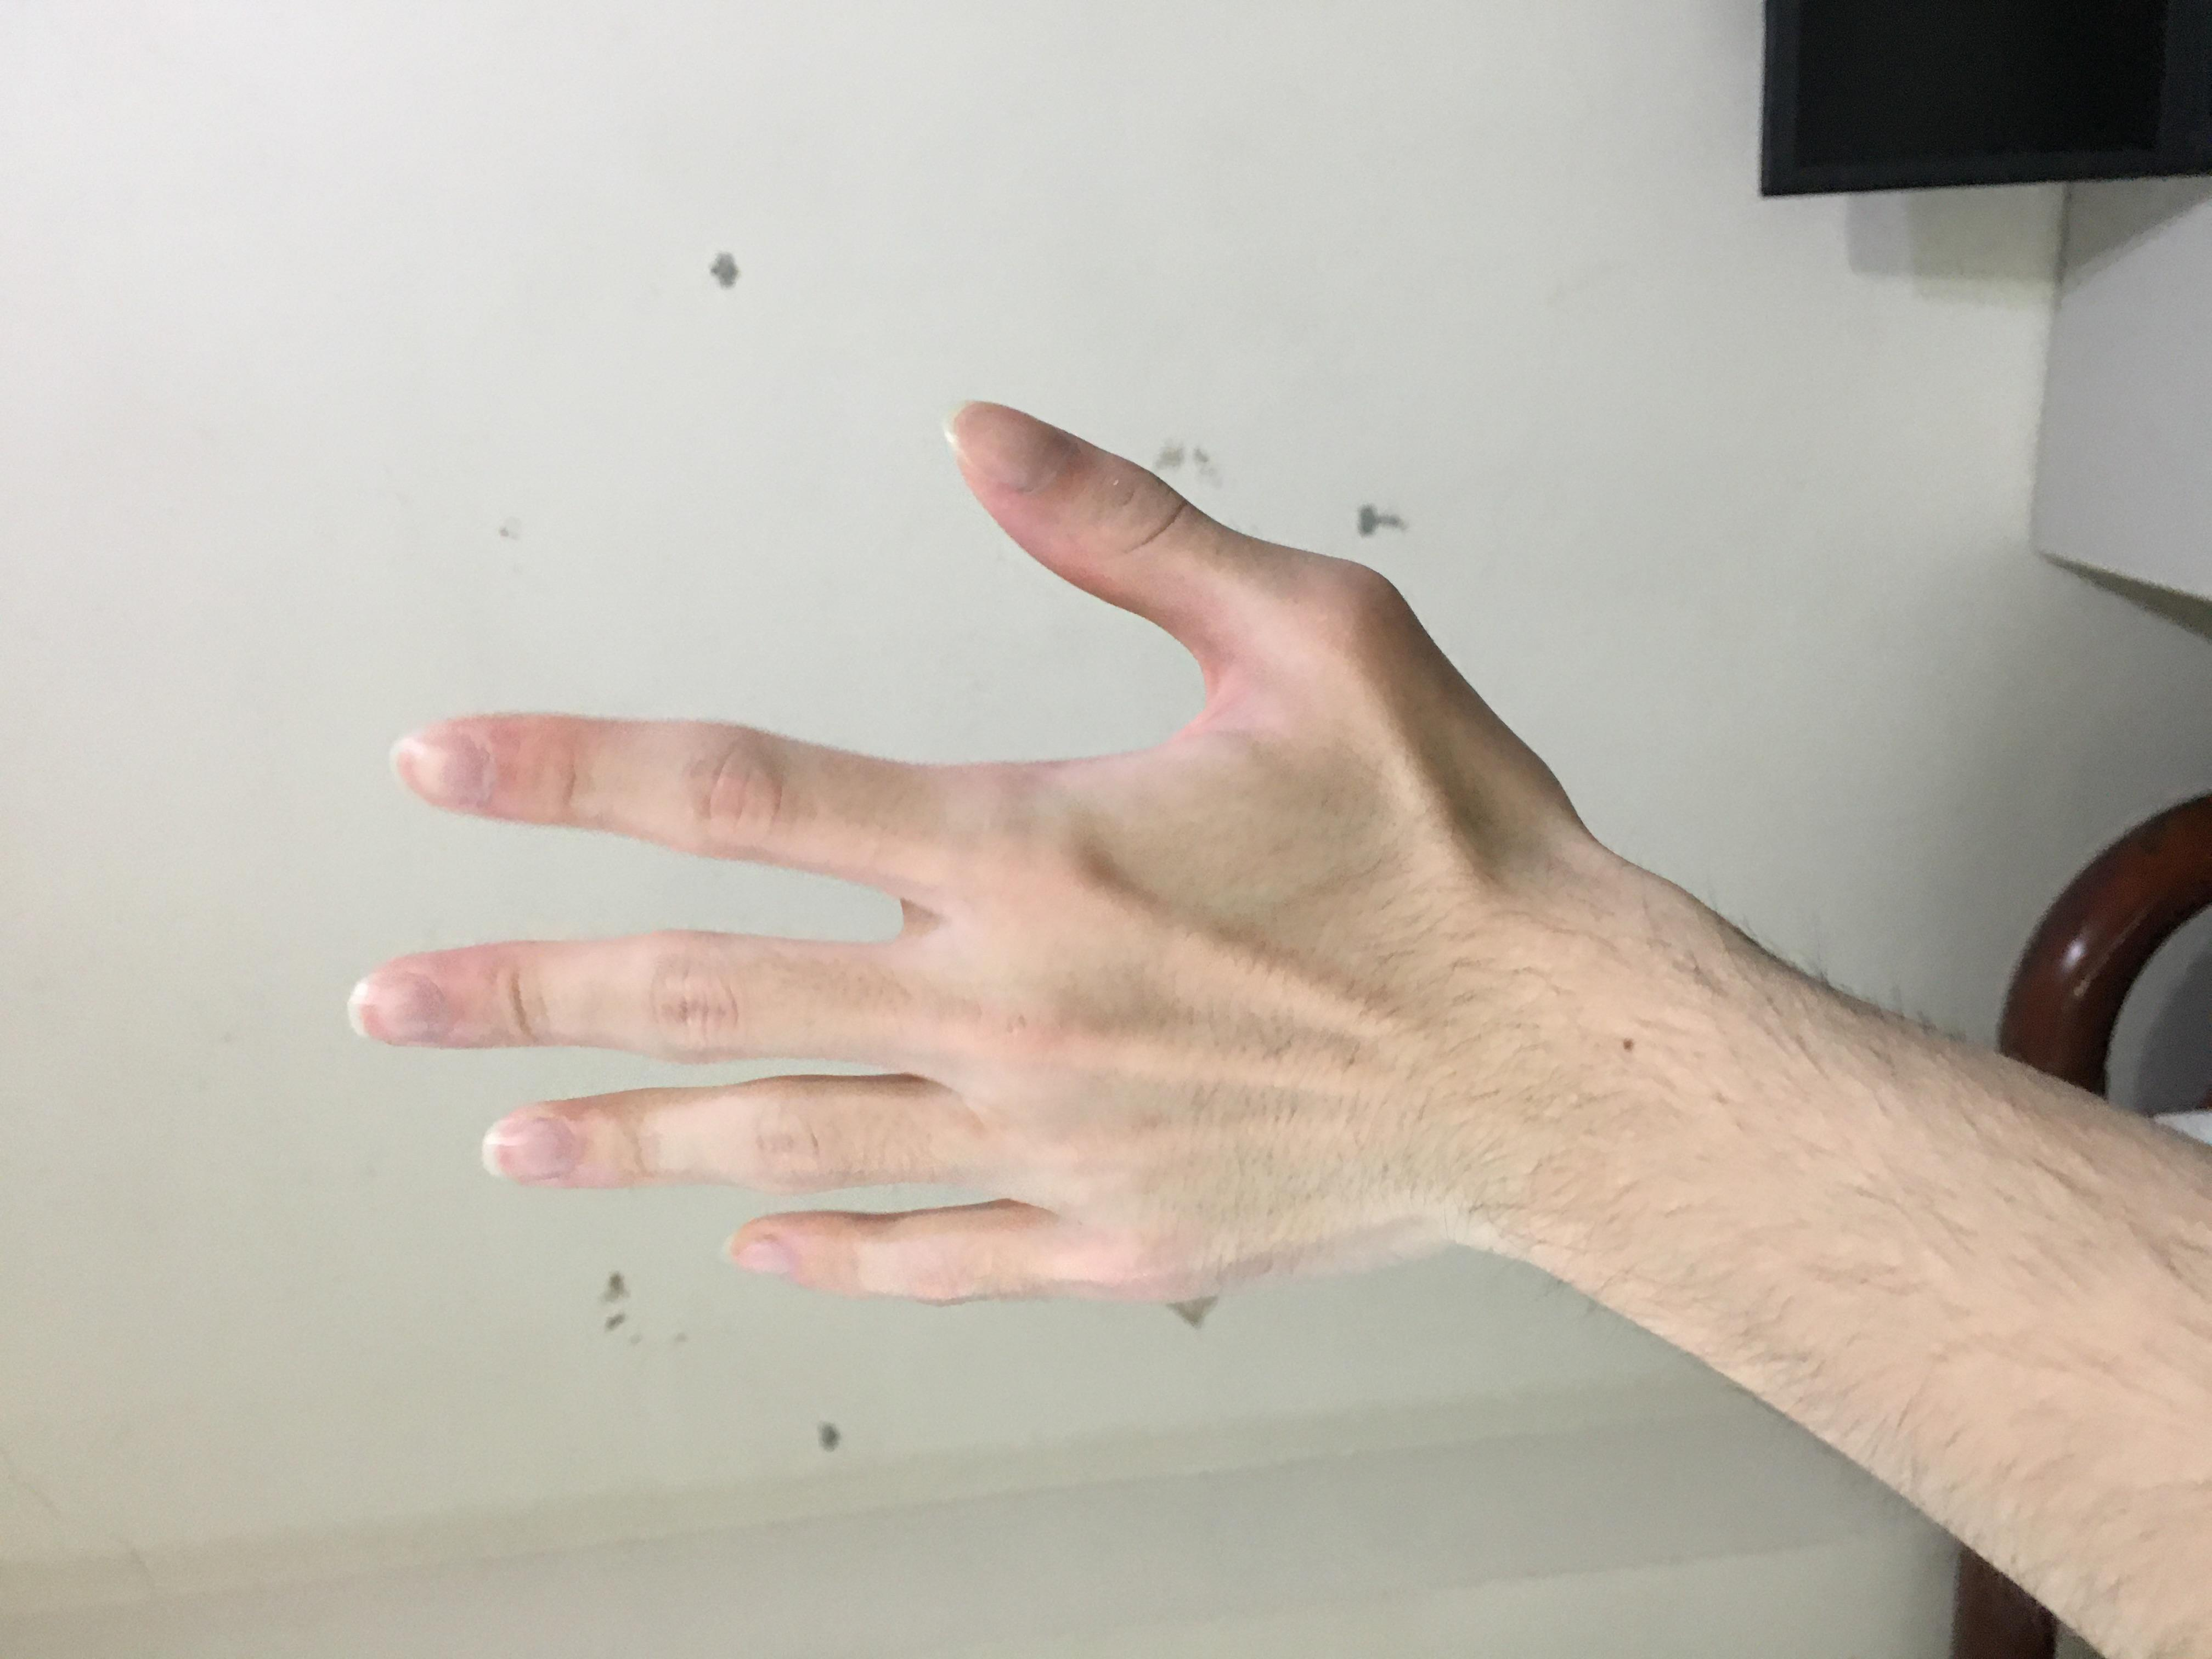hand: (455, 256, 1689, 1127)
